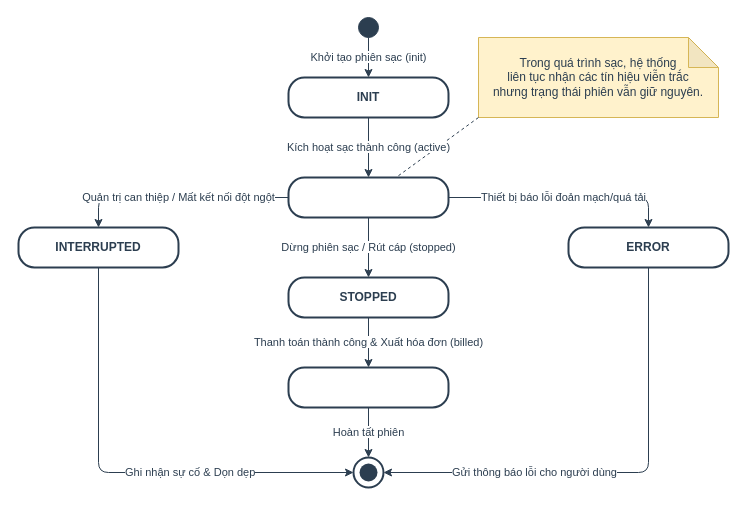
Image size: 746x506. Some labels were removed from this diagram. The centre of each missing label's shape, as x and y in pixels:
ACTIVE: pixel 368 197
BILLED: pixel 368 387
